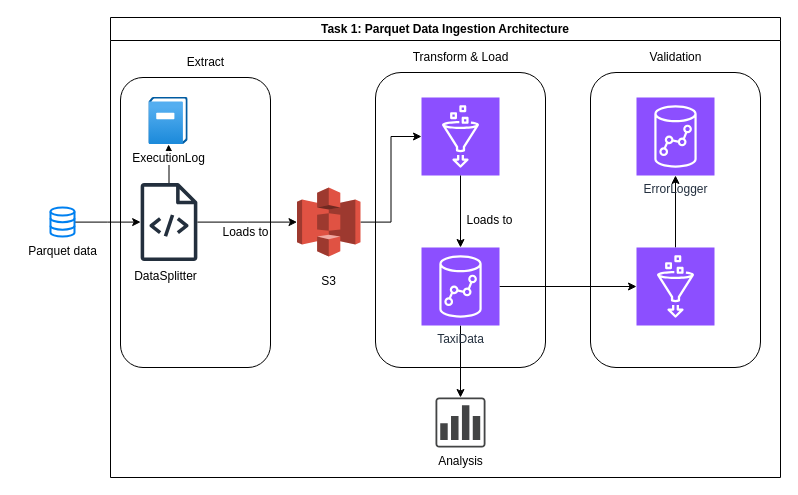
This 798x495 diagram has some shape labels left out. Here are the shapes that lost their labels. From the top down, the centre of each, then its label:
At (x=460, y=136): "RedshiftLoader".
At (x=675, y=286): "DataValidator".
